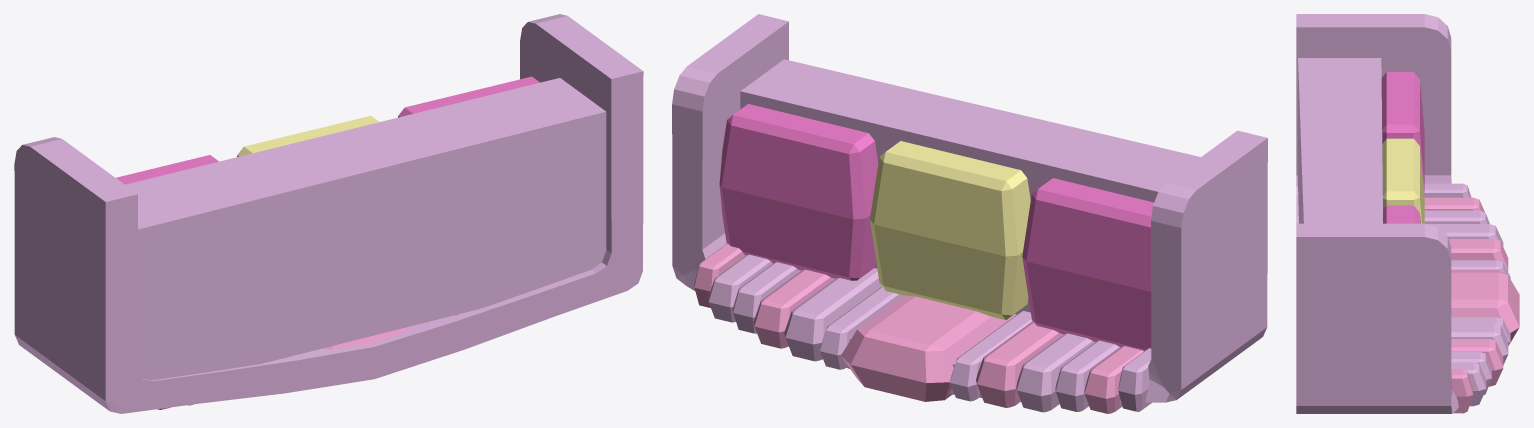
File: couch.fbx
3 views of the same model, side by side, from view 1: azimuth 30°, elevation 25°; view 2: azimuth 150°, elevation 25°; view 3: azimuth 270°, elevation 25° (orthographic). The views are drawn at different scales.
Parts seen in each view (by area): view 1: mueble.001; view 2: mueble.001; view 3: mueble.001.
Part boxes in pixels (left/top/right/bottom): mueble.001: left=14, top=14, right=643, bottom=413; mueble.001: left=672, top=14, right=1267, bottom=413; mueble.001: left=1296, top=14, right=1519, bottom=413.
Size of the model in its own units: 1.9 by 0.8389 by 0.8057.
Materials: 1 (1 with a texture image).
